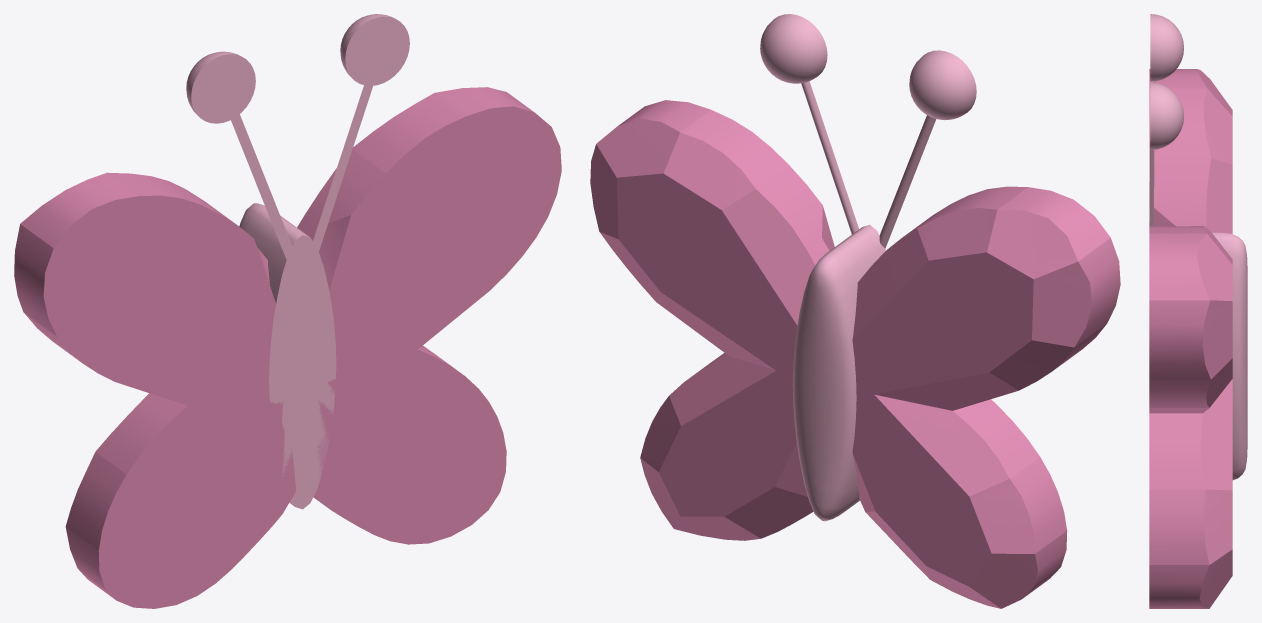
The model's file is Butterfly.glb.
3 views of the same model, side by side, from view 1: azimuth 30°, elevation 25°; view 2: azimuth 150°, elevation 25°; view 3: azimuth 270°, elevation 25° (orthographic). The views are drawn at different scales.
Visible parts, largest first — view 1: Kindness_Kindness_0; view 2: Kindness_Kindness_0; view 3: Kindness_Kindness_0.
Part boxes in pixels (x1,y1,x2,y2): Kindness_Kindness_0: [14, 14, 561, 608]; Kindness_Kindness_0: [590, 14, 1120, 608]; Kindness_Kindness_0: [1149, 14, 1247, 608].
Bounding box in the file's own units: 2.65 × 2.63 × 0.48.
Materials: 1 (1 with a texture image).
